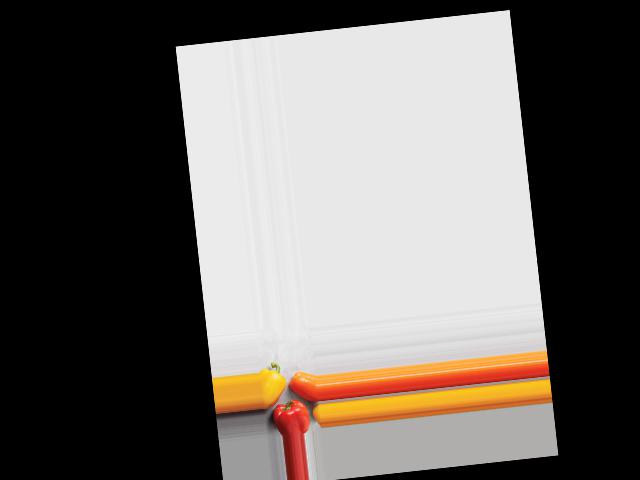bell_pepper: (268, 399, 310, 436)
